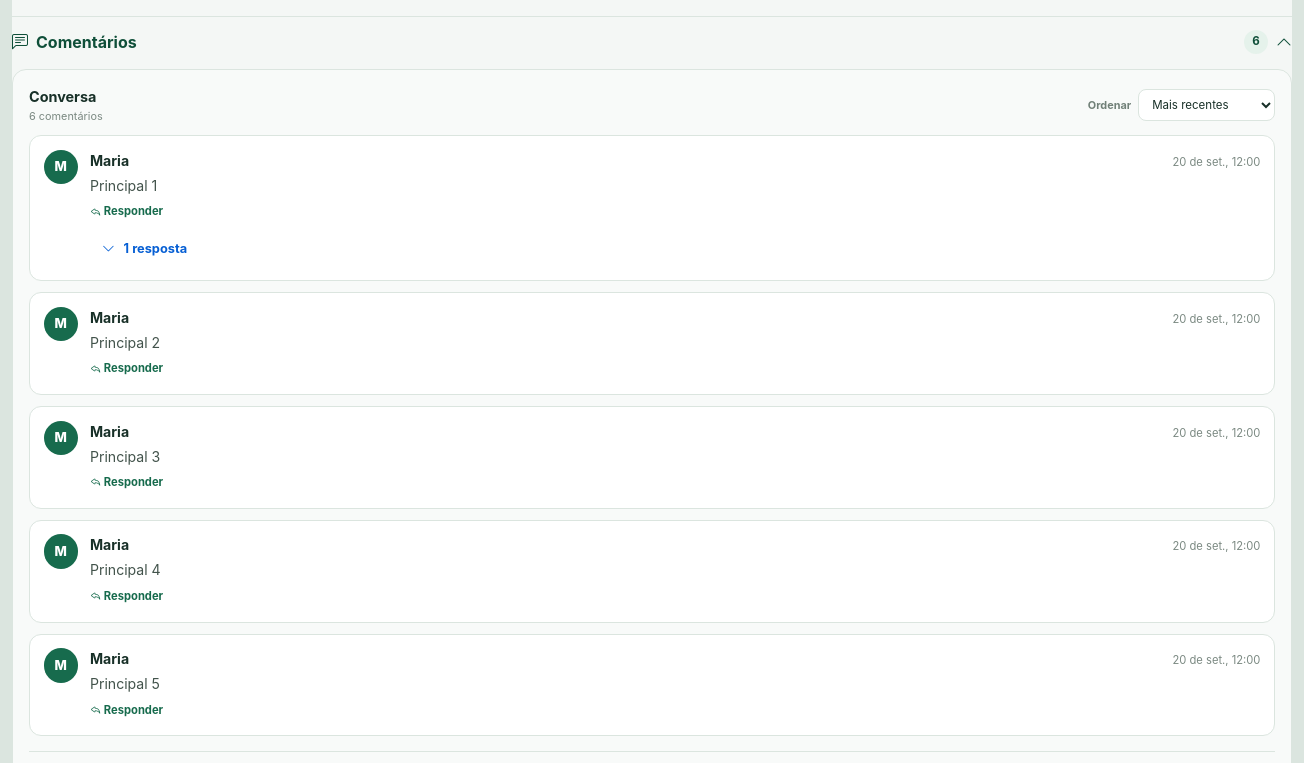
Test: detalhes recolhem respostas e publicam diretamente na resposta selecionada
expect the text "Resposta existente" is not shown: met
Click the button "1 resposta".
click(145, 249)  # box [90,231,199,266]
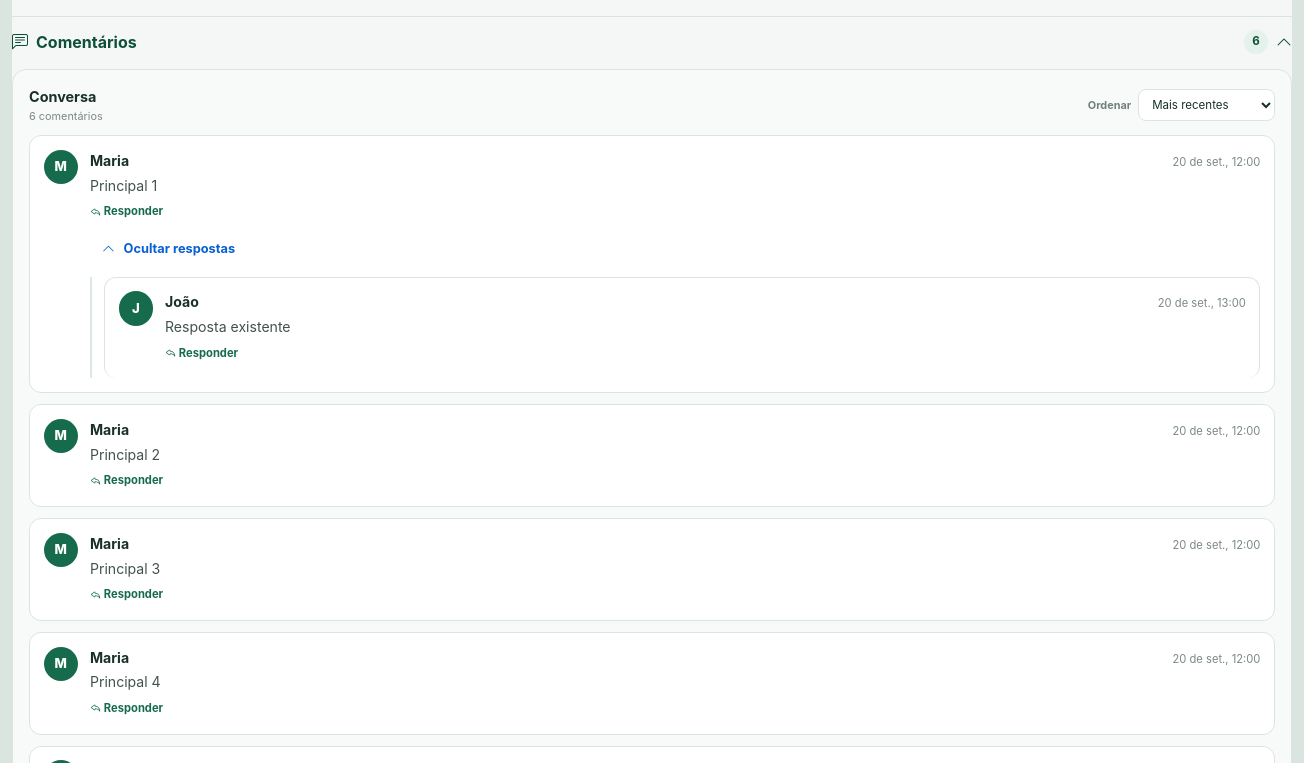
Click the button "Responder" below "Resposta existente".
click(202, 353)  # box [165,342,238,365]
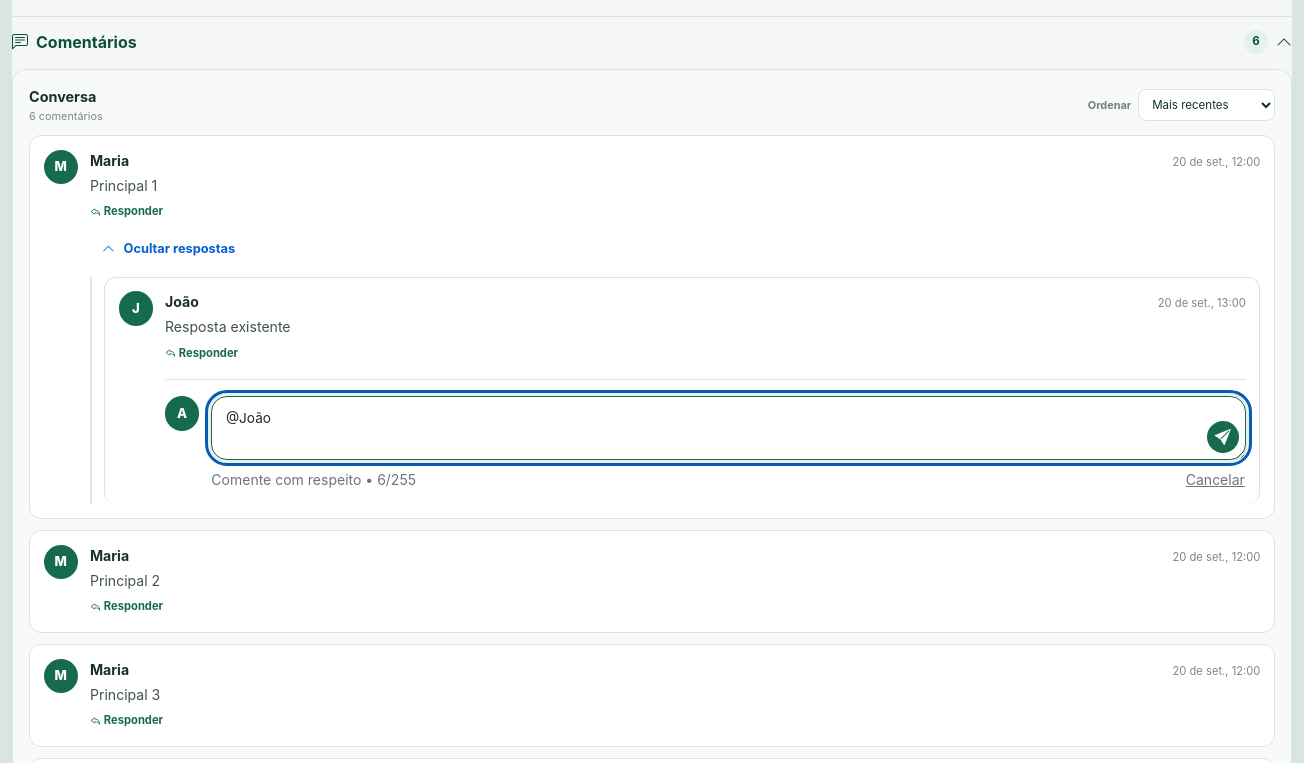
expect the text box with placeholder "Responder a João..." holds "@João ": met
Replace the text in the text box with placeholder "Responder a João..." with "@João Concordo!" at [729, 428], box [211,396,1246,460]
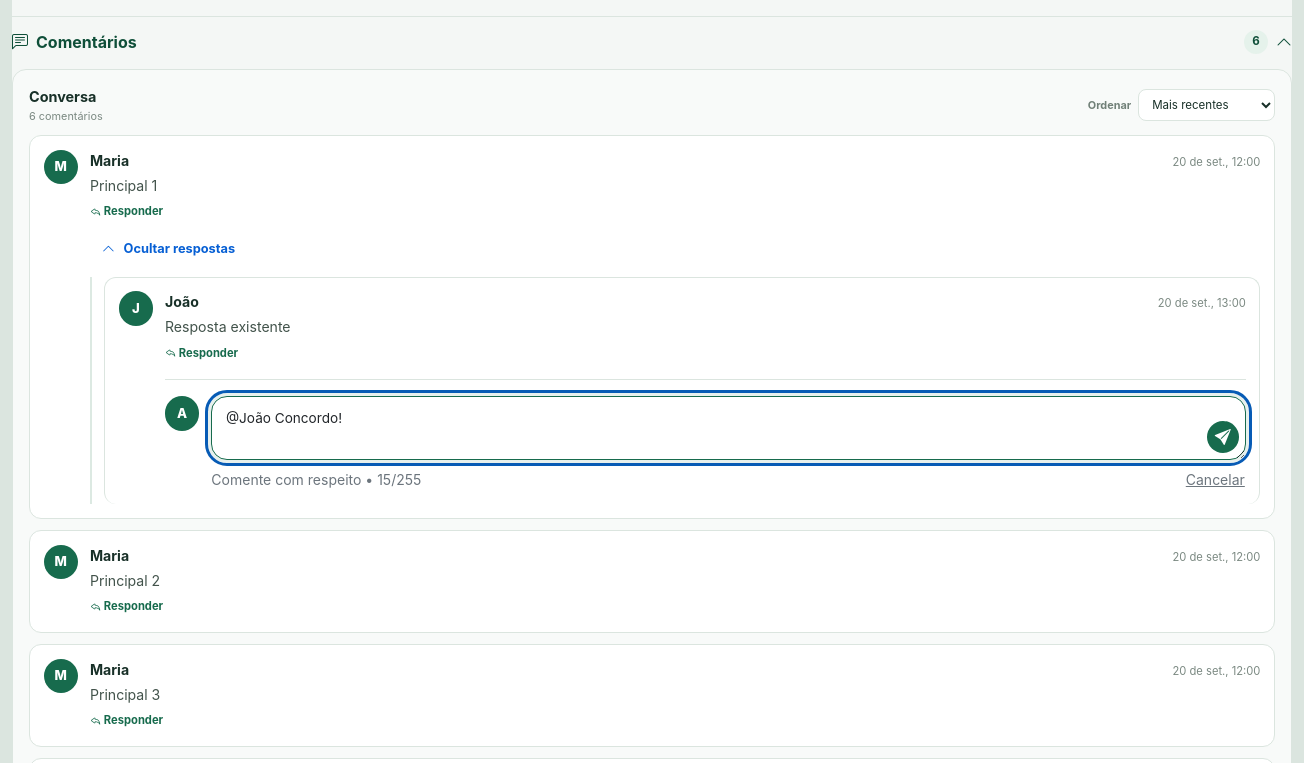
Click the button named "Publicar resposta".
click(1223, 437)  # box [1207,421,1239,453]
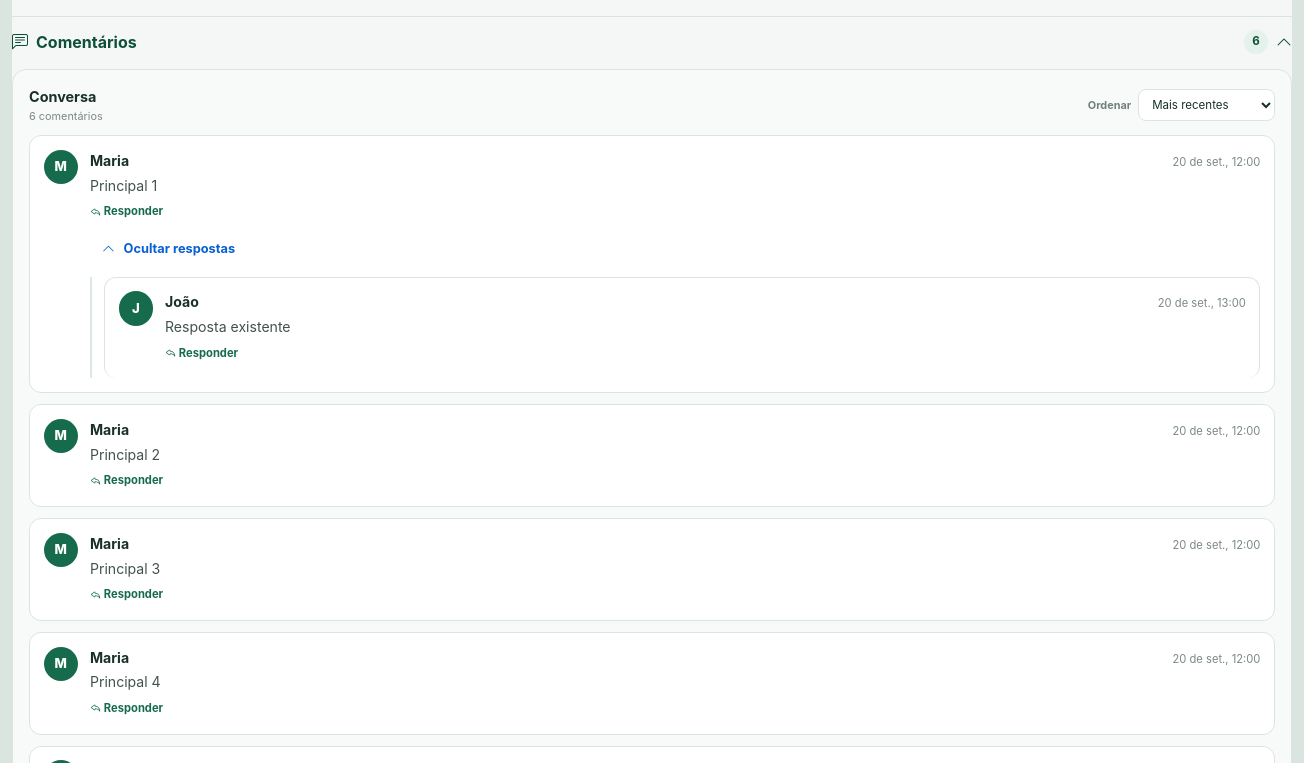
Click the button "Ocultar respostas".
click(169, 249)  # box [90,231,247,266]
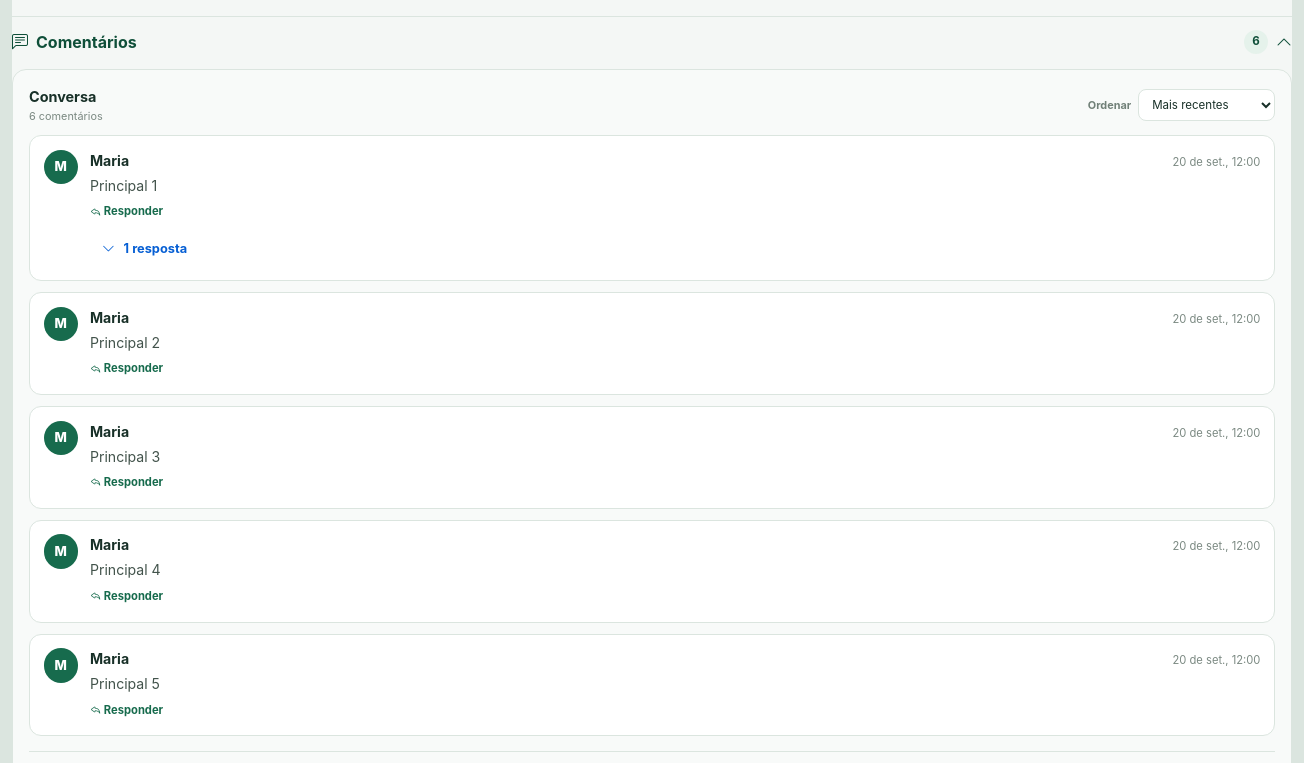
expect the text "Resposta existente" is gone: met
